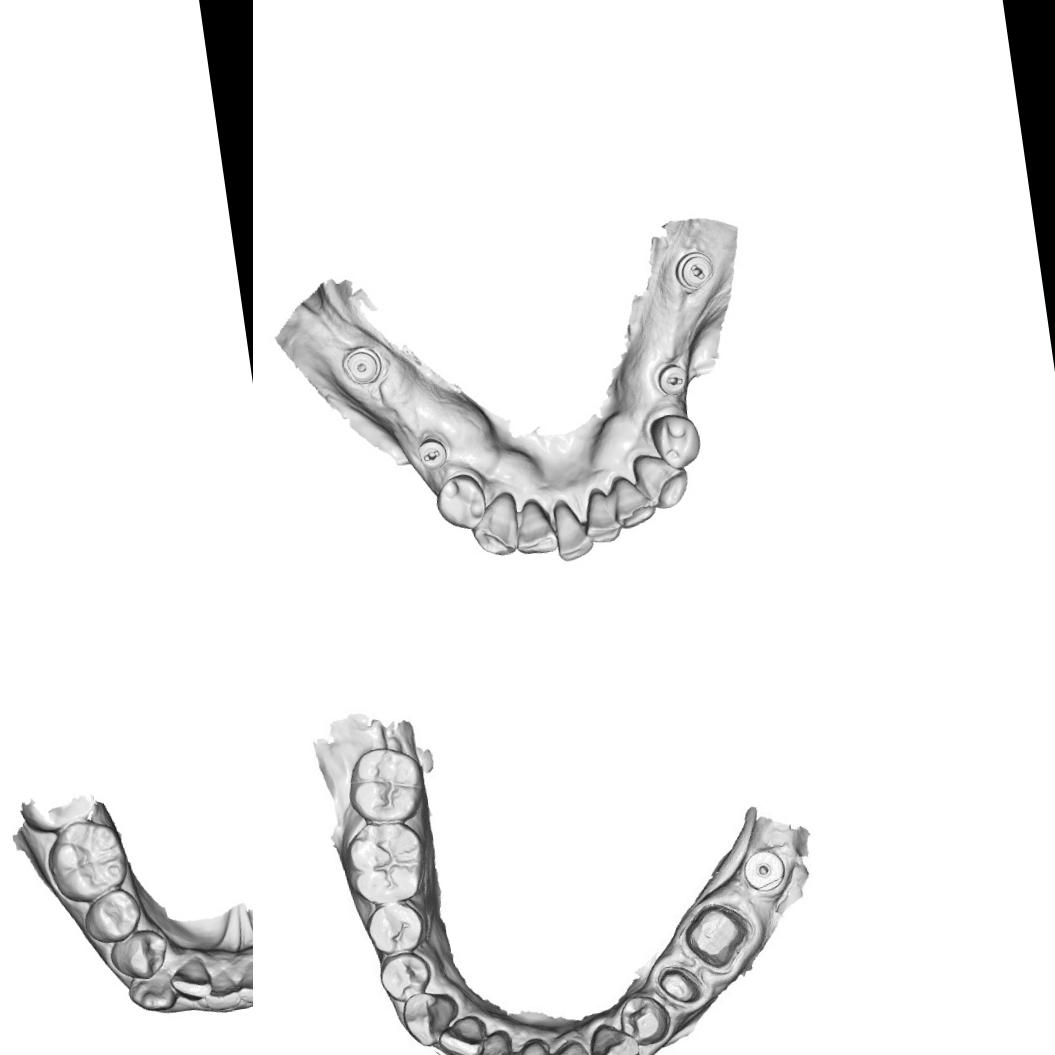canine: (466, 490, 524, 560), (629, 448, 692, 512), (120, 956, 182, 1018), (400, 990, 458, 1046), (591, 1021, 641, 1055)
crown: (684, 896, 752, 968), (660, 966, 704, 1008)
implant: (739, 842, 788, 899), (338, 342, 384, 389)
implant_minus: (671, 247, 717, 296), (414, 433, 450, 473), (653, 362, 690, 398)
incisor: (510, 495, 560, 557), (550, 494, 595, 562), (166, 946, 217, 1006), (610, 468, 658, 530), (579, 483, 623, 544), (201, 962, 247, 1020), (439, 1010, 489, 1055), (464, 1030, 513, 1055), (231, 958, 253, 1013), (547, 1037, 597, 1055), (505, 1037, 551, 1055)
molar: (41, 813, 135, 905), (343, 814, 432, 907), (348, 744, 421, 824)
premolar: (79, 884, 149, 950), (105, 924, 176, 985), (431, 470, 490, 534), (648, 410, 705, 473), (365, 902, 424, 956), (378, 948, 436, 1002), (618, 997, 671, 1048)
